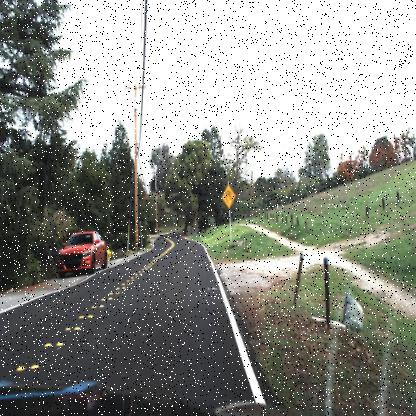car: (56, 226, 109, 280)
